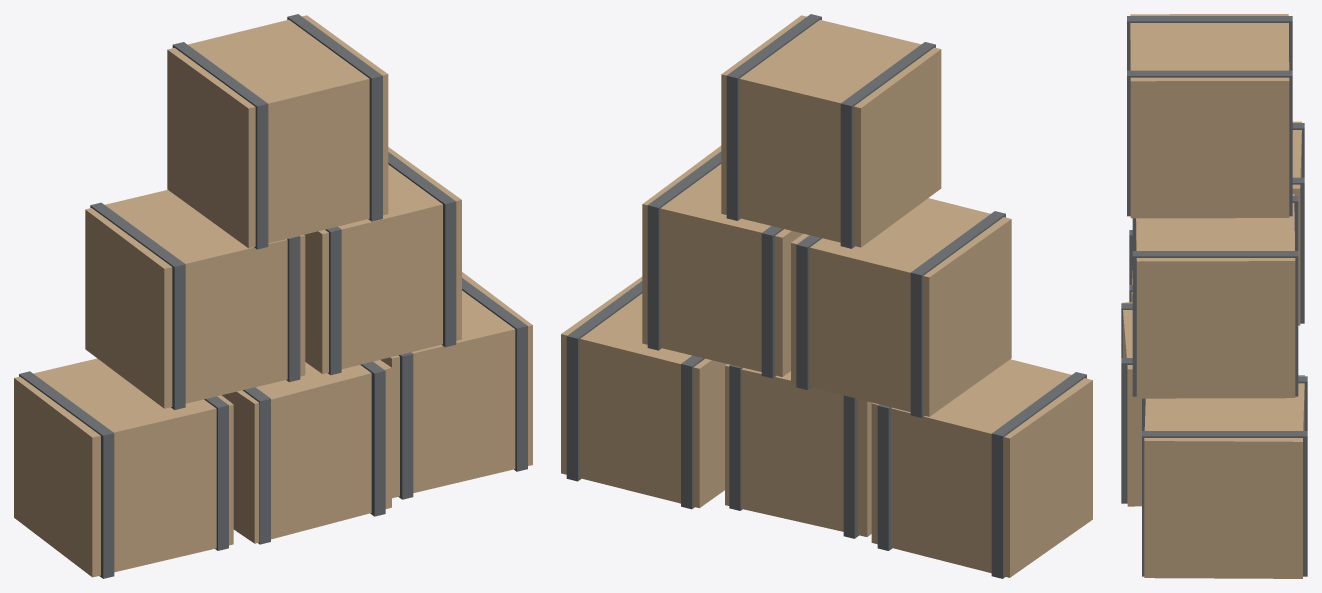
The model's file is crate_stack_01.glb.
The picture shows the model from 3 angles, left to right: view 1: azimuth 30°, elevation 25°; view 2: azimuth 150°, elevation 25°; view 3: azimuth 270°, elevation 25°; orthographic projection.
Parts seen in each view (by area): view 1: crate5, crate0, crate3, crate1, crate4, crate2, brace0_-0.18, brace5_-0.18, brace5_0.18, brace3_-0.18, brace4_0.18, brace2_0.18 (+6 smaller); view 2: crate5, crate3, crate0, crate2, crate4, crate1, brace5_-0.18, brace5_0.18, brace0_-0.18, brace3_-0.18, brace2_0.18, brace4_0.18 (+6 smaller); view 3: crate5, crate4, crate2, brace5_0.18, brace4_0.18, crate1, brace2_0.18, brace5_-0.18, brace1_0.18, crate3, brace3_0.18, brace4_-0.18 (+1 smaller).
Part boxes in pixels (x1,y1,x2,y2): crate5: (167,15,388,248); crate0: (14,358,233,577); crate3: (85,190,305,408); crate1: (222,360,391,543); crate4: (304,147,461,373); crate2: (380,272,532,498); brace0_-0.18: (19,371,114,578); brace5_-0.18: (172,42,268,249); brace5_0.18: (287,14,382,221); brace3_-0.18: (90,202,185,409); brace4_0.18: (388,152,456,347); brace2_0.18: (462,278,527,471); crate5: (721,15,941,247); crate3: (791,198,1011,416); crate0: (871,359,1092,577); crate2: (561,277,726,508); crate4: (642,146,802,376); crate1: (725,364,872,536); brace5_-0.18: (840,42,935,248); brace5_0.18: (726,14,821,220); brace0_-0.18: (991,372,1086,578); brace3_-0.18: (910,211,1005,417); brace2_0.18: (566,281,642,481); brace4_0.18: (647,151,721,350); crate5: (1130,14,1289,218); crate4: (1136,194,1295,398); crate2: (1144,375,1304,578); brace5_0.18: (1127,70,1292,216); brace4_0.18: (1132,251,1298,396); crate1: (1122,302,1141,506); brace2_0.18: (1142,431,1307,576); brace5_-0.18: (1127,16,1292,70); brace1_0.18: (1121,358,1132,503); crate3: (1292,121,1301,325); brace3_0.18: (1292,177,1304,323); brace4_-0.18: (1132,196,1298,250).
Size of the model in its own units: 1.41 by 1.31 by 0.5165.
